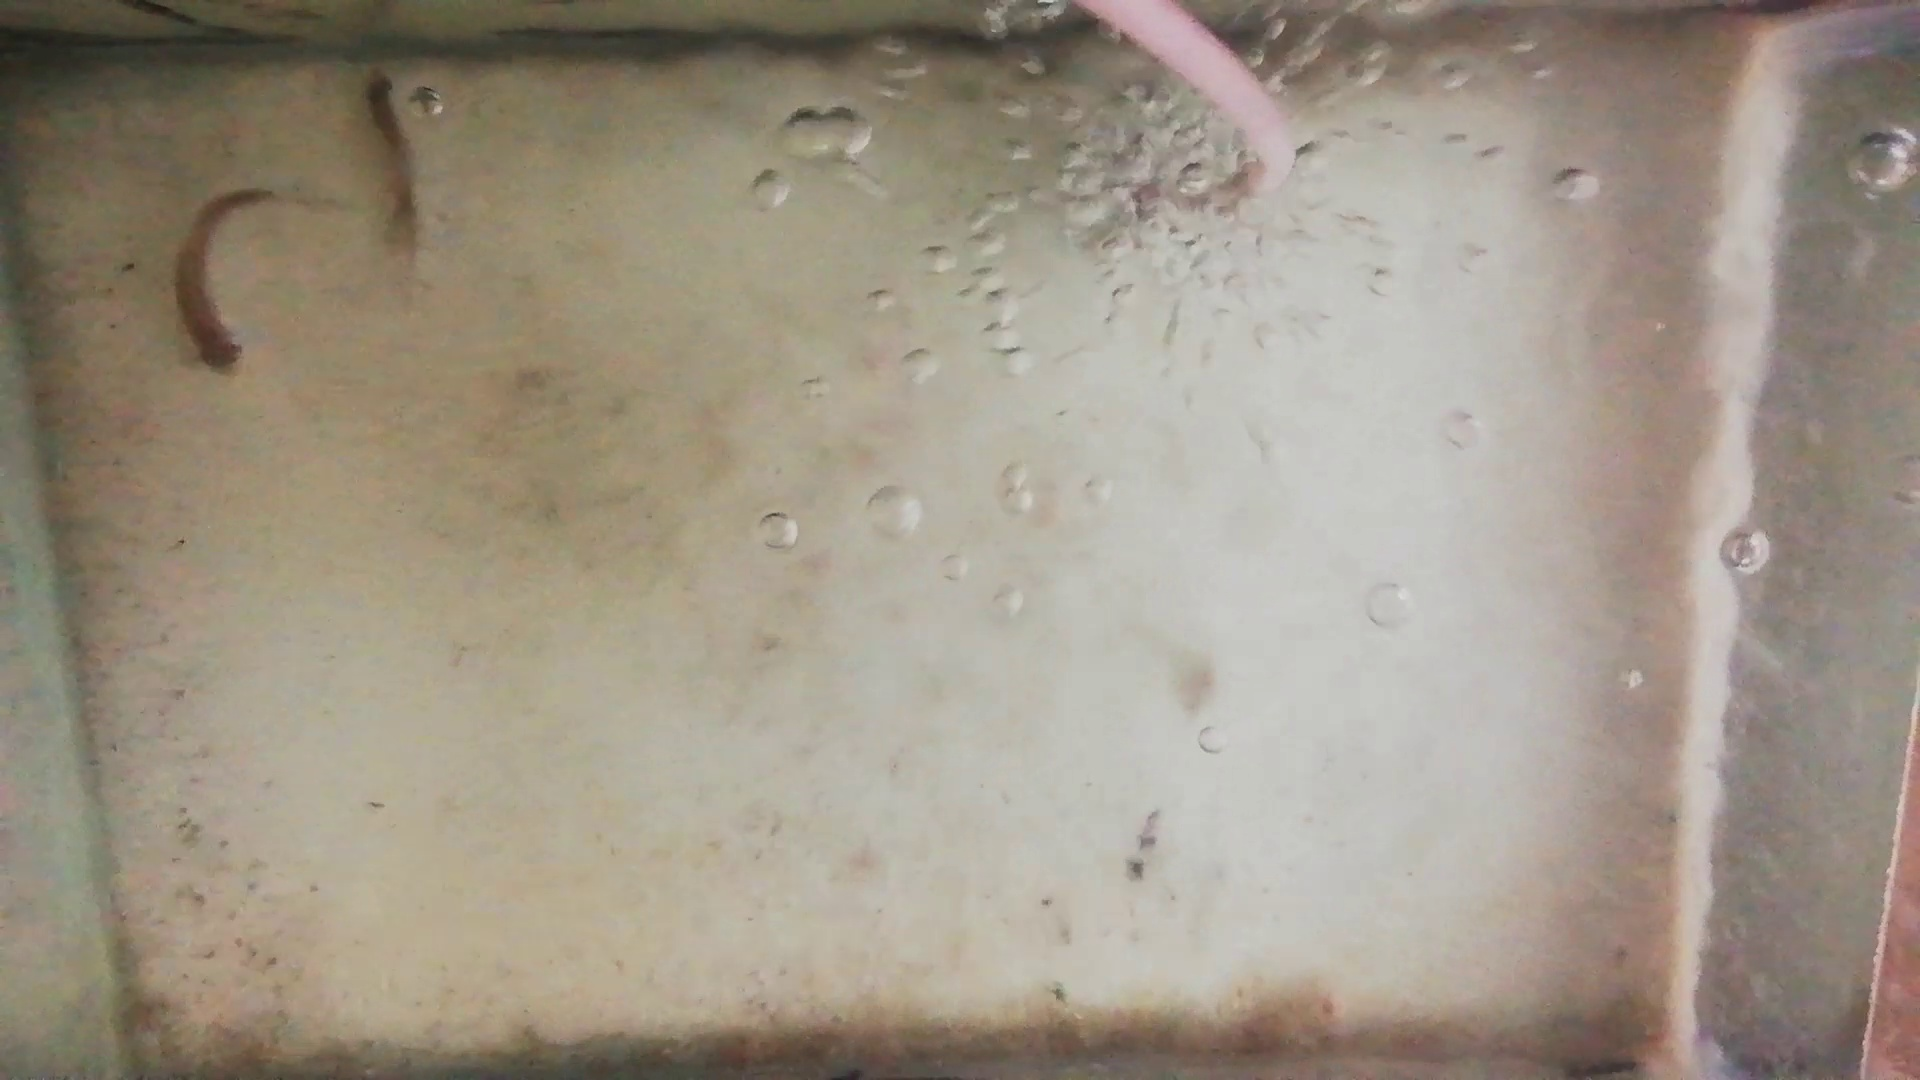fish: (175, 189, 272, 368), (367, 69, 419, 218)
